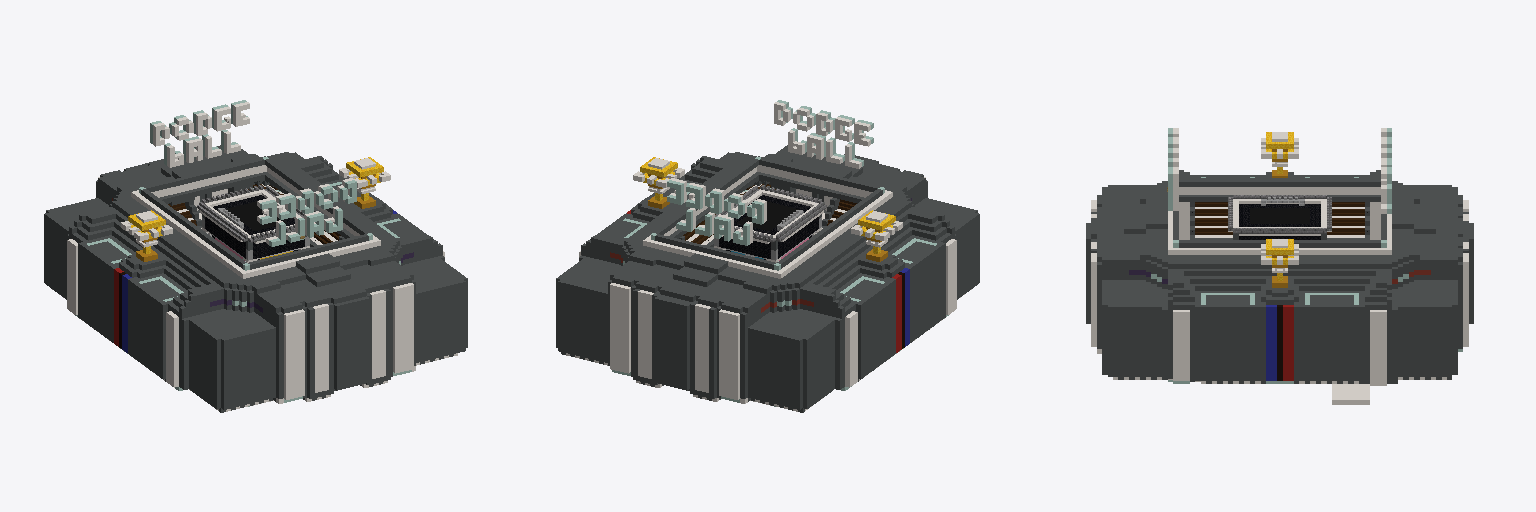
The picture shows the model from 3 angles: view 1: azimuth 30°, elevation 25°; view 2: azimuth 150°, elevation 25°; view 3: azimuth 270°, elevation 25°; orthographic projection.
Bounding box in the file's own units: 57 × 42 × 71.
44 materials, 12 textured.